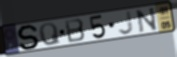5: (89, 14, 107, 40)
B: (64, 18, 87, 44)
J: (117, 10, 135, 36)
N: (135, 6, 160, 34)
Q: (38, 22, 62, 47)
S: (17, 24, 42, 51)
